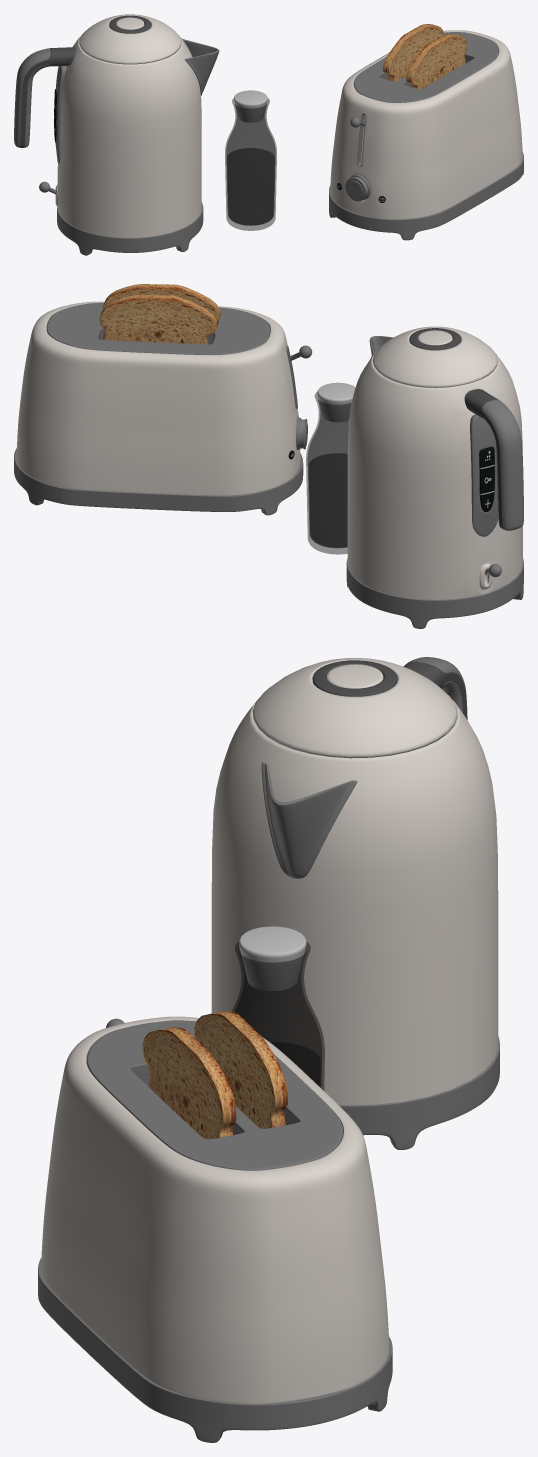
File: toaster.glb
The picture shows the model from 3 angles, top to bottom: view 1: azimuth 30°, elevation 25°; view 2: azimuth 150°, elevation 25°; view 3: azimuth 270°, elevation 25°; orthographic projection. The views are drawn at different scales.
Parts seen in each view (by area): view 1: skfb_offset; view 2: skfb_offset; view 3: skfb_offset.
Part boxes in pixels (x1=…): skfb_offset: x1=14, y1=14, x2=523, y2=255; skfb_offset: x1=14, y1=284, x2=523, y2=628; skfb_offset: x1=38, y1=657, x2=499, y2=1442.
Bounding box in the file's own units: 521 × 232 × 230.
9 materials, 2 textured.
